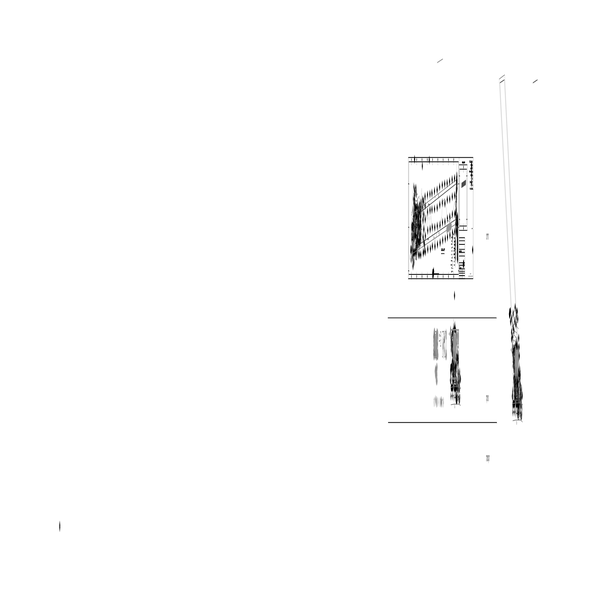room: (407, 149, 478, 279)
